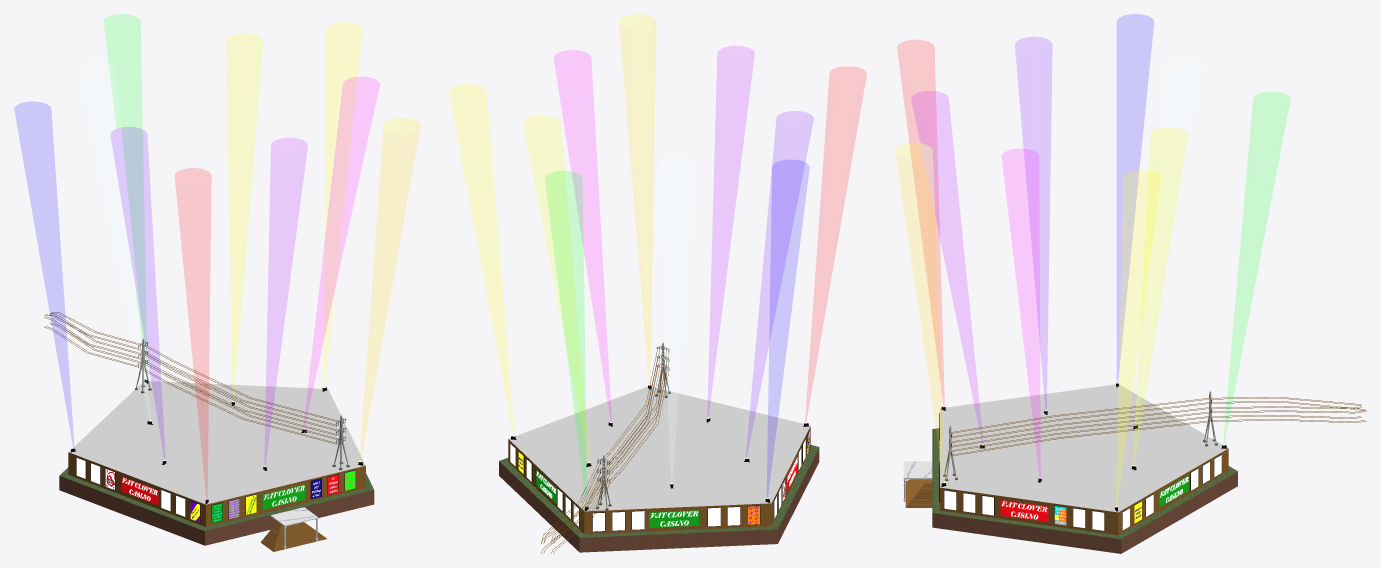
Rendered from Casino.glb.
3 views of the same model, side by side, from view 1: azimuth 30°, elevation 25°; view 2: azimuth 150°, elevation 25°; view 3: azimuth 270°, elevation 25° (orthographic).
Parts seen in each view (by area): view 1: Beams, Ext Walls, Wires, Ads - Front, Stairs, Main Sign, Ad Board.004, Ad Board.005, Main Sign.001, Overhang; view 2: Beams, Ext Walls, Wires, Ad Board.007, Ad Board.006, Main Sign.003; view 3: Beams, Ext Walls, Wires, Stairs, Main Sign.002, Ad Board.002, Ad Board.003, Overhang.
Boxes of the visible parts, x1=… form: Beams: x1=15, y1=14, x2=419, y2=496; Ext Walls: x1=59, y1=381, x2=374, y2=545; Wires: x1=44, y1=312, x2=345, y2=444; Ads - Front: x1=211, y1=470, x2=355, y2=523; Stairs: x1=260, y1=522, x2=326, y2=551; Main Sign: x1=262, y1=484, x2=305, y2=509; Ad Board.004: x1=76, y1=457, x2=115, y2=489; Ad Board.005: x1=161, y1=489, x2=200, y2=522; Main Sign.001: x1=121, y1=476, x2=158, y2=504; Overhang: x1=270, y1=507, x2=318, y2=526; Beams: x1=449, y1=14, x2=866, y2=503; Ext Walls: x1=499, y1=386, x2=819, y2=552; Wires: x1=541, y1=351, x2=668, y2=553; Ad Board.007: x1=707, y1=505, x2=760, y2=526; Ad Board.006: x1=592, y1=510, x2=644, y2=531; Main Sign.003: x1=649, y1=510, x2=698, y2=527; Beams: x1=895, y1=14, x2=1289, y2=506; Ext Walls: x1=932, y1=384, x2=1237, y2=553; Wires: x1=951, y1=397, x2=1366, y2=456; Stairs: x1=905, y1=479, x2=932, y2=507; Main Sign.002: x1=1000, y1=500, x2=1048, y2=521; Ad Board.002: x1=944, y1=490, x2=994, y2=515; Ad Board.003: x1=1054, y1=505, x2=1104, y2=530; Overhang: x1=903, y1=461, x2=932, y2=479.
Size of the model in its own units: 187 by 202 by 217.
36 materials, 4 textured.
